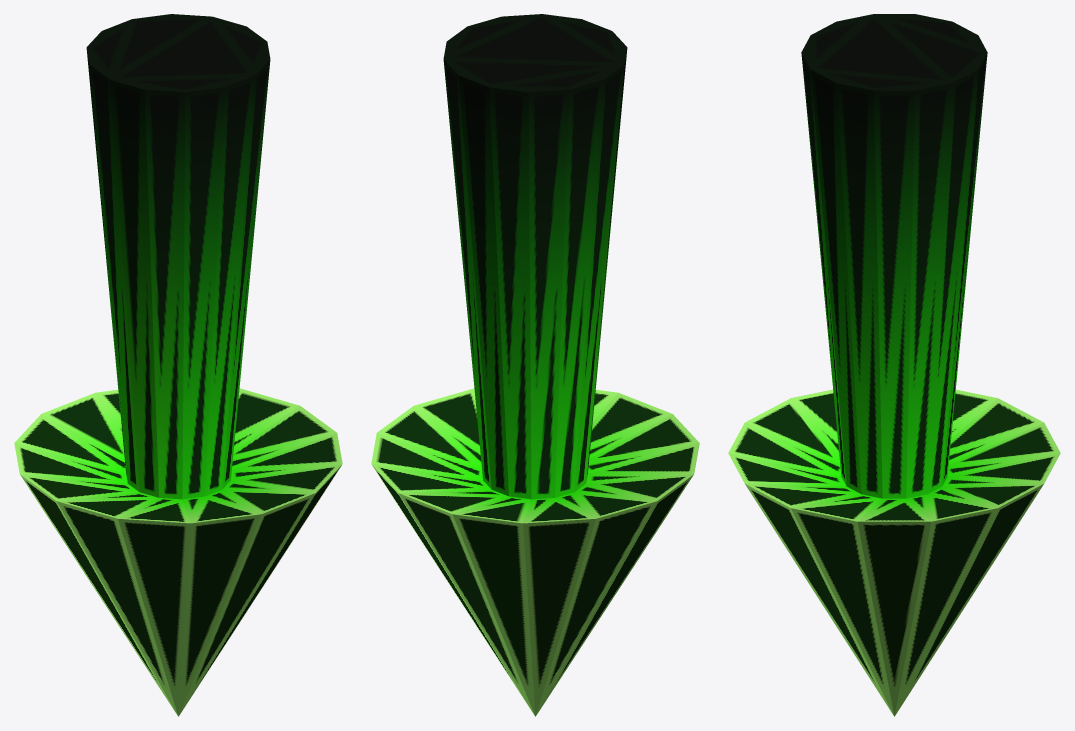
File: marker.glb
3 renders of one model, left to right at view 1: azimuth 30°, elevation 25°; view 2: azimuth 150°, elevation 25°; view 3: azimuth 270°, elevation 25°, orthographic.
Visible parts, largest first — view 1: Marker; view 2: Marker; view 3: Marker.
Boxes of the visible parts, bbox=[...] form: Marker: bbox=[14, 14, 342, 716]; Marker: bbox=[371, 14, 699, 716]; Marker: bbox=[728, 14, 1060, 716].
Bounding box in the file's own units: 0.367 × 0.83 × 0.3764.
Materials: 1 (1 with a texture image).
